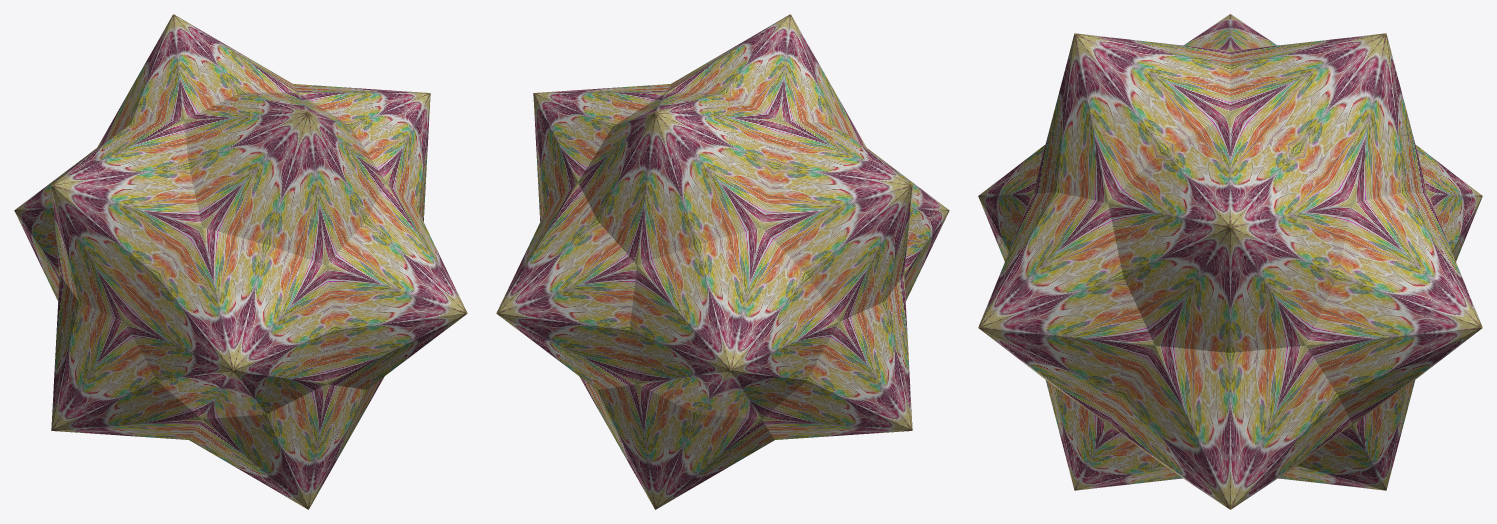
The model's file is SmallDodecacronicHexecontahedron4.obj.
The picture shows the model from 3 angles, left to right: view 1: azimuth 30°, elevation 25°; view 2: azimuth 150°, elevation 25°; view 3: azimuth 270°, elevation 25°; orthographic projection. The views are drawn at different scales.
Bounding box in the file's own units: 5.24 × 5.24 × 5.24.
Materials: 1 (1 with a texture image).
